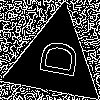D: (30, 35, 79, 80)
